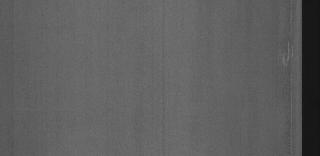silk spot: (271, 30, 299, 74)
